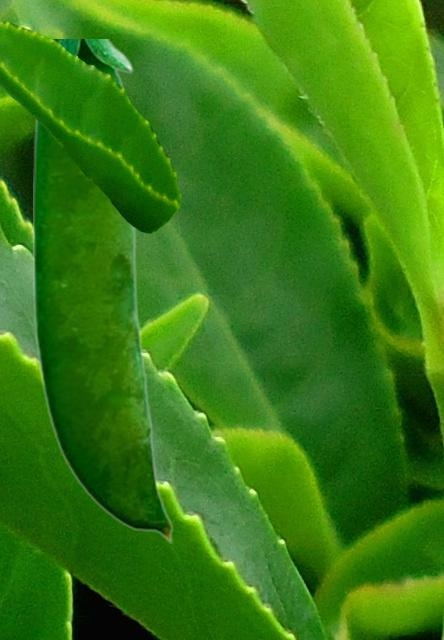pea: (33, 39, 172, 542)
